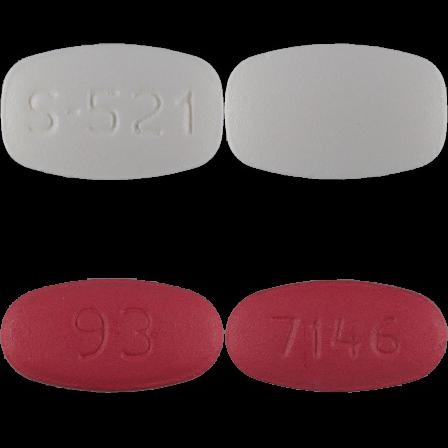66116-417: (0, 0, 224, 224)
